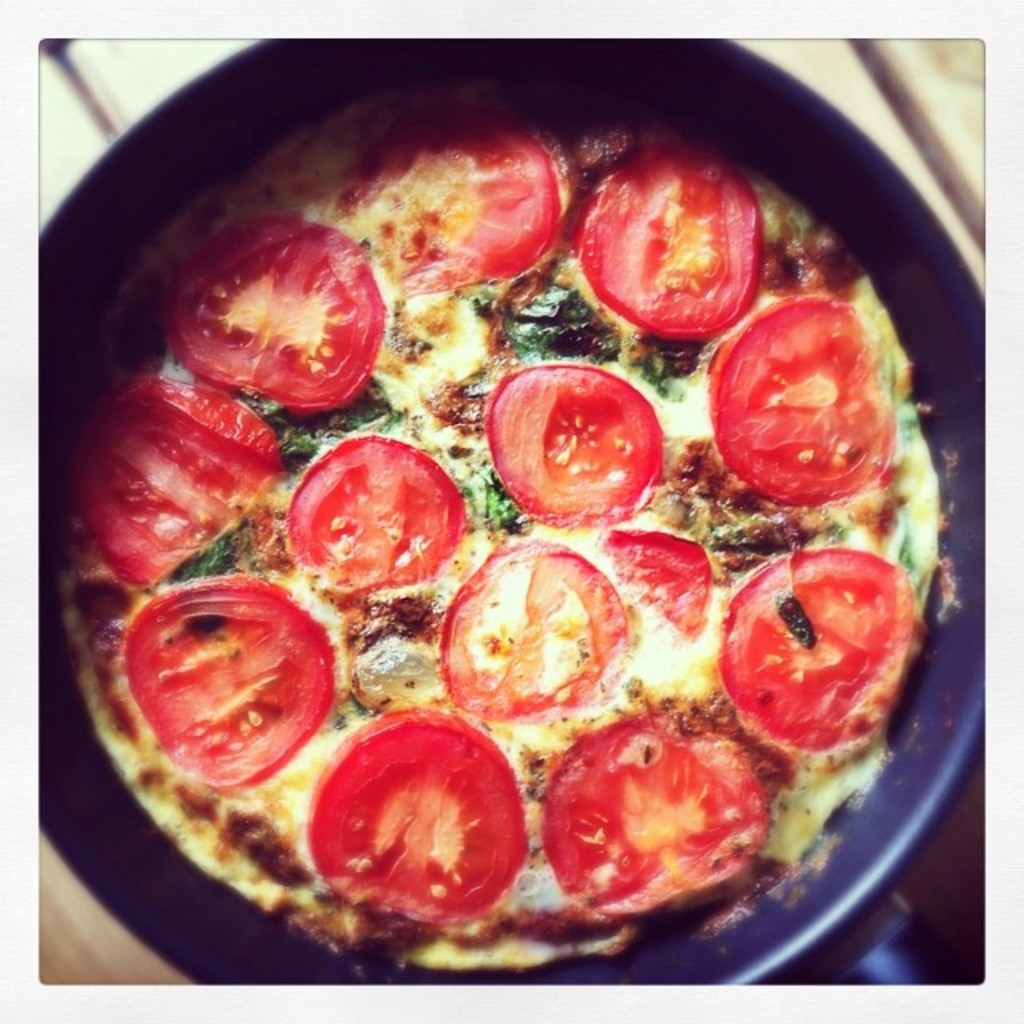Pizza: (60, 0, 960, 952)
